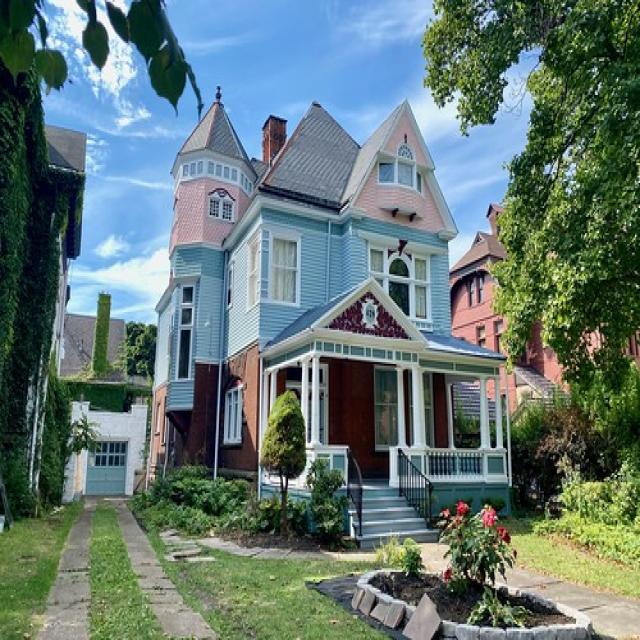building: (140, 92, 515, 555)
